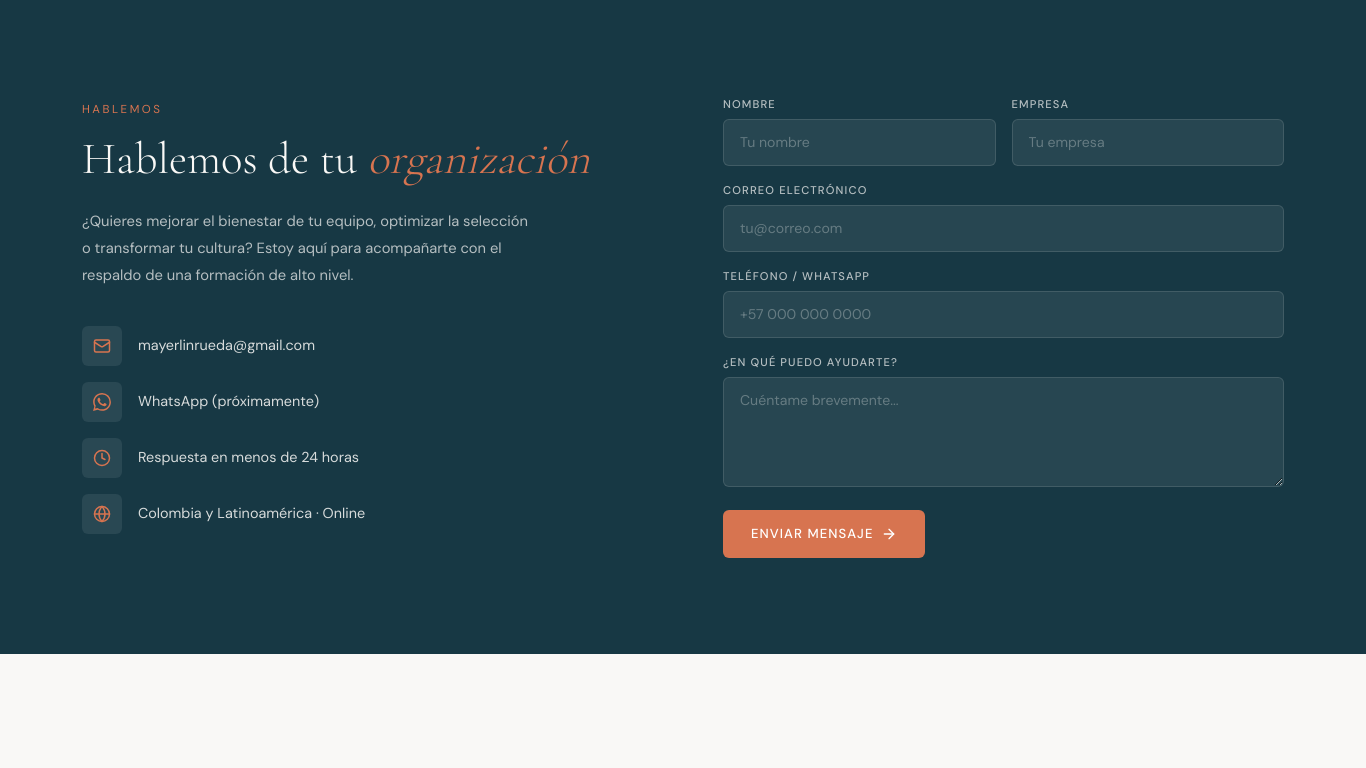
Test case: Contact › shows validation errors on empty submit
Click the button "Enviar mensaje".
click(824, 534)  # box [723,510,926,558]
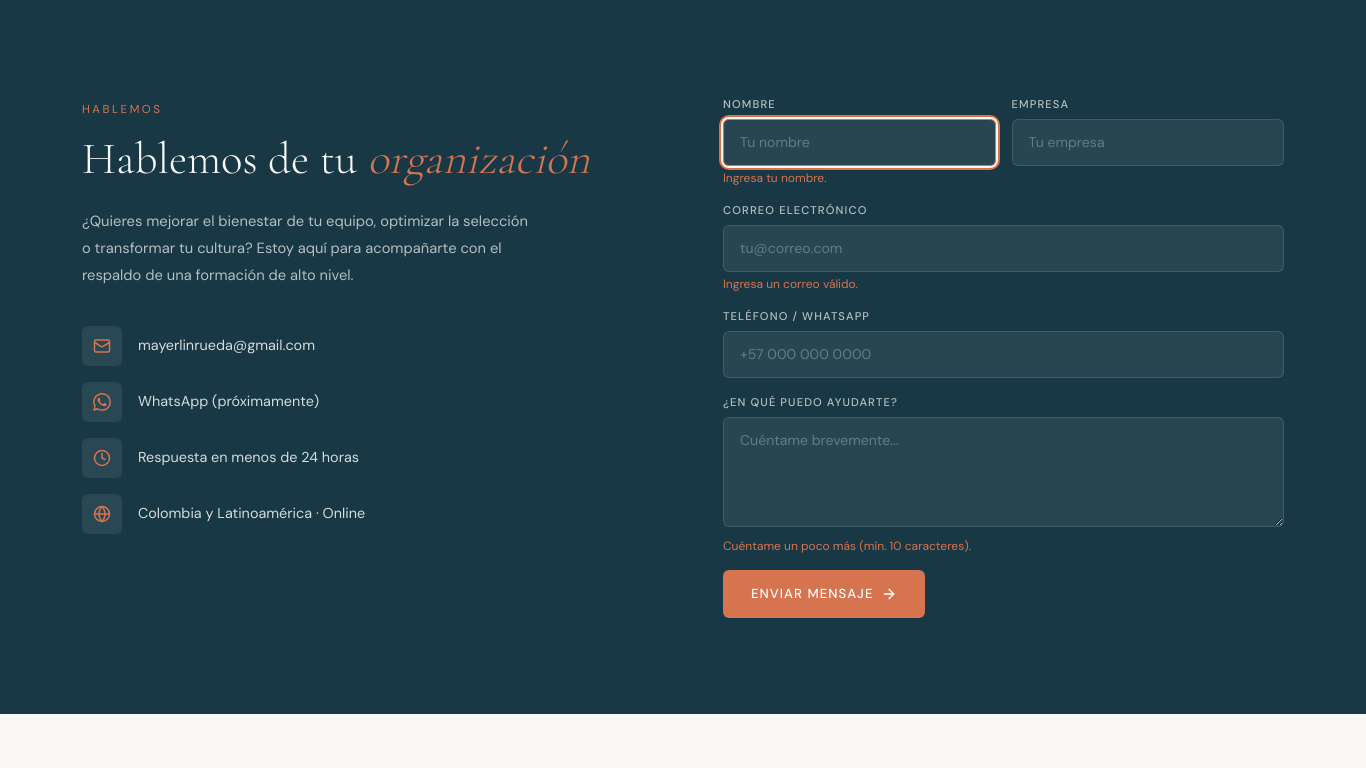
expect the text "Ingresa tu nombre." is shown: met, box [723,170,827,186]
expect the text "Ingresa un correo válido." is shown: met, box [723,276,858,292]
expect the text "Cuéntame un poco más (mín. 10 caracteres)." is shown: met, box [723,538,971,554]
